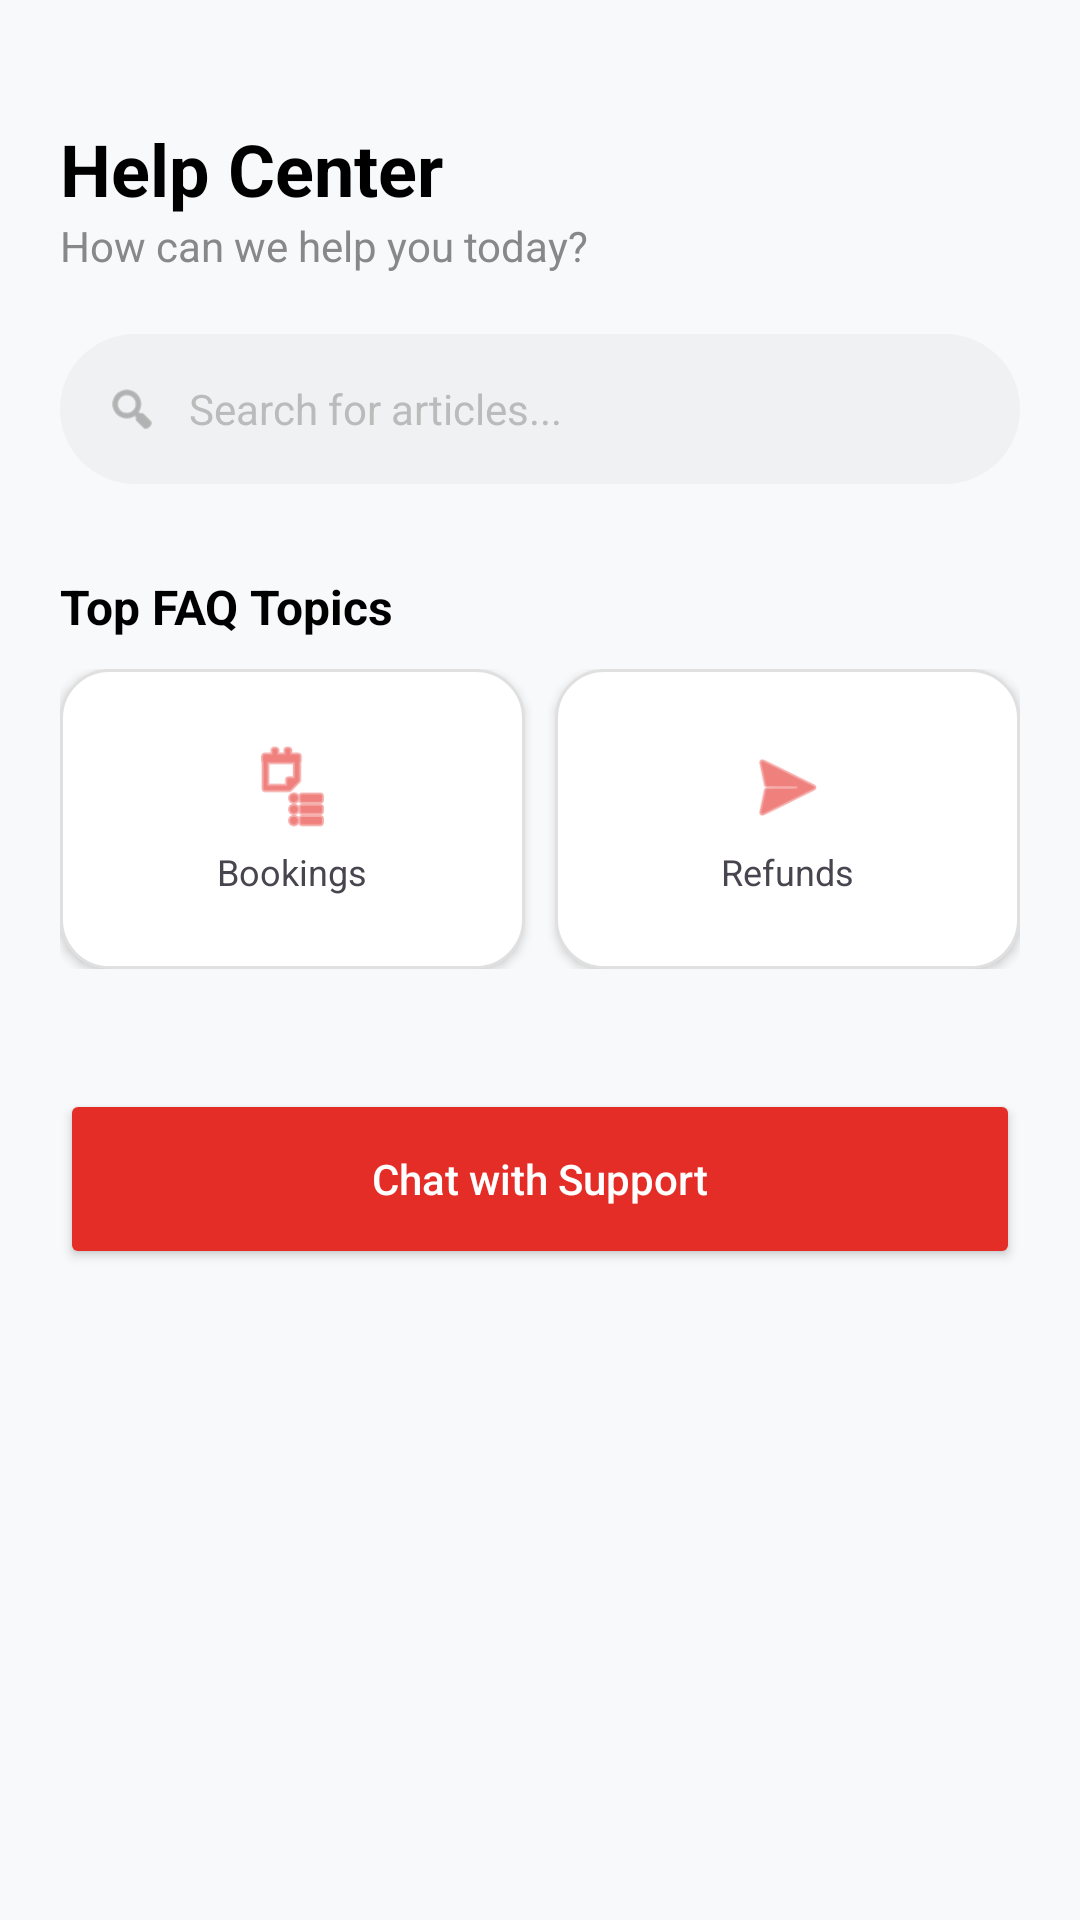

Named icons in this screenshot (1080 x 1920) and their bounding boxes, (x1, y1, x2, y2):
agenda: (261, 746, 324, 827)
send: (759, 759, 817, 816)
